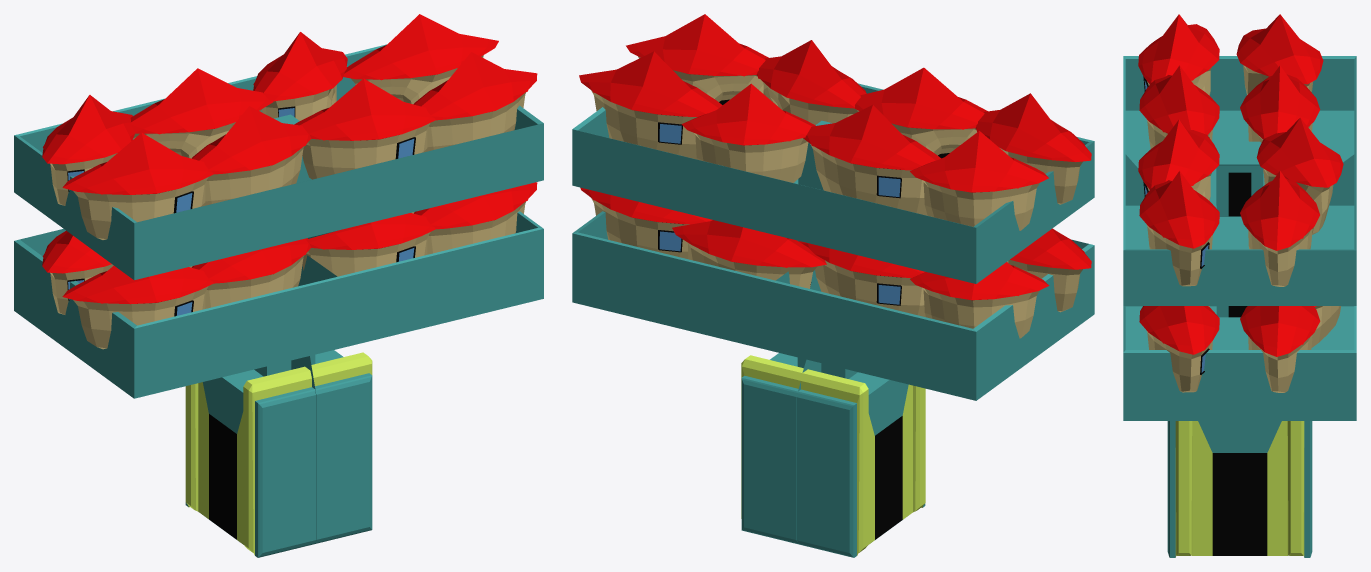
The model's file is House3.fbx.
3 views of the same model, side by side, from view 1: azimuth 30°, elevation 25°; view 2: azimuth 150°, elevation 25°; view 3: azimuth 270°, elevation 25° (orthographic). The views are drawn at different scales.
Visible parts, largest first — view 1: Object, Cube.015, Cube.008, Cube.012, Cube.011, Cube, Cube.010, Cube.013, Cube.009, Cube.007, Cube.014, Cube.003 (+2 smaller); view 2: Object, Cube.013, Cube.010, Cube.014, Cube.009, Cube.011, Cube.012, Cube.015, Cube.006, Cube.008, Cube.001, Cube.002 (+2 smaller); view 3: Object, Cube.011, Cube.010, Cube.009, Cube.004, Cube.005, Cube.014, Cube.012, Cube.015, Cube.008, Cube.013, Cube.006.
Part boxes in pixels (x1,y1,x2,y2): Object: (14, 44, 543, 557); Cube.015: (62, 132, 213, 239); Cube.008: (294, 78, 435, 179); Cube.012: (192, 106, 311, 205); Cube.011: (413, 52, 537, 151); Cube: (62, 265, 213, 349); Cube.010: (343, 14, 498, 104); Cube.013: (130, 68, 273, 158); Cube.009: (253, 32, 347, 120); Cube.007: (302, 213, 435, 276); Cube.014: (42, 95, 134, 205); Cube.003: (191, 238, 311, 308); Object: (572, 83, 1094, 557); Cube.013: (803, 105, 940, 215); Cube.010: (579, 51, 722, 159); Cube.014: (910, 131, 1048, 230); Cube.009: (681, 83, 815, 182); Cube.011: (626, 14, 768, 104); Cube.012: (855, 67, 987, 158); Cube.015: (975, 93, 1091, 204); Cube.006: (672, 220, 826, 288); Cube.008: (756, 40, 866, 125); Cube.001: (910, 262, 1049, 338); Cube.002: (799, 241, 925, 317); Object: (1123, 56, 1356, 557); Cube.011: (1139, 171, 1219, 286); Cube.010: (1240, 171, 1319, 286); Cube.009: (1256, 117, 1343, 234); Cube.004: (1139, 306, 1219, 392); Cube.005: (1240, 306, 1320, 392); Cube.014: (1236, 14, 1323, 94); Cube.012: (1139, 65, 1219, 148); Cube.015: (1138, 14, 1219, 95); Cube.008: (1138, 119, 1219, 200); Cube.013: (1240, 65, 1320, 171); Cube.006: (1311, 306, 1340, 347).
Bounding box in the file's own units: 1034 × 932 × 450.
